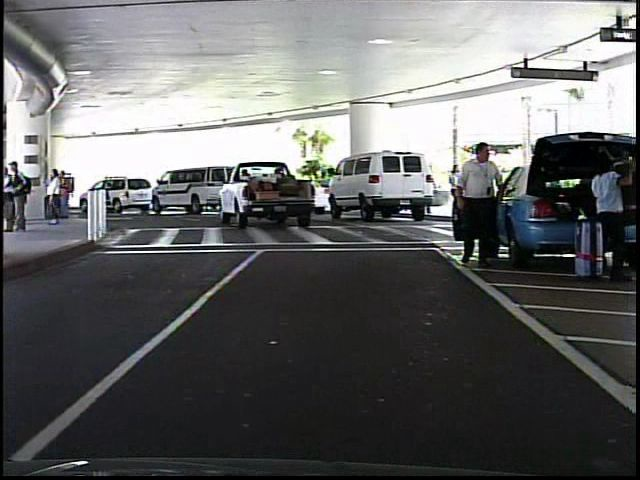person: (442, 138, 498, 271), (582, 151, 632, 279), (447, 159, 467, 215)
